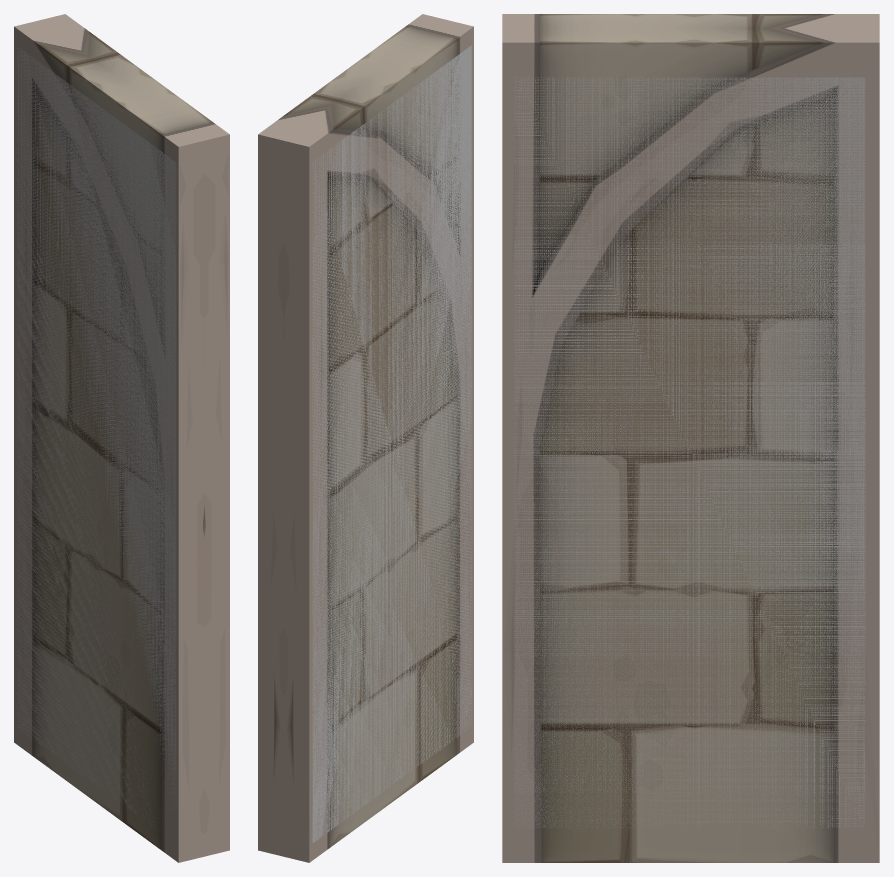
The model's file is SM_Bld_Wall_Half_01.fbx.
3 renders of one model, left to right at view 1: azimuth 30°, elevation 25°; view 2: azimuth 150°, elevation 25°; view 3: azimuth 270°, elevation 25°, orthographic. The views are drawn at different scales.
Visible parts, largest first — view 1: SM_Bld_Wall_Half_01, SM_Bld_Wall_Half_01_ConvexHulls; view 2: SM_Bld_Wall_Half_01, SM_Bld_Wall_Half_01_ConvexHulls; view 3: SM_Bld_Wall_Half_01, SM_Bld_Wall_Half_01_ConvexHulls.
Part boxes in pixels (x1,y1,x2,y2): SM_Bld_Wall_Half_01: (14, 14, 229, 862); SM_Bld_Wall_Half_01_ConvexHulls: (17, 46, 176, 827); SM_Bld_Wall_Half_01: (258, 14, 473, 862); SM_Bld_Wall_Half_01_ConvexHulls: (312, 45, 471, 842); SM_Bld_Wall_Half_01: (502, 14, 879, 862); SM_Bld_Wall_Half_01_ConvexHulls: (514, 77, 865, 828).
Size of the model in its own units: 22.5 by 125 by 300.
2 materials, 1 textured.
